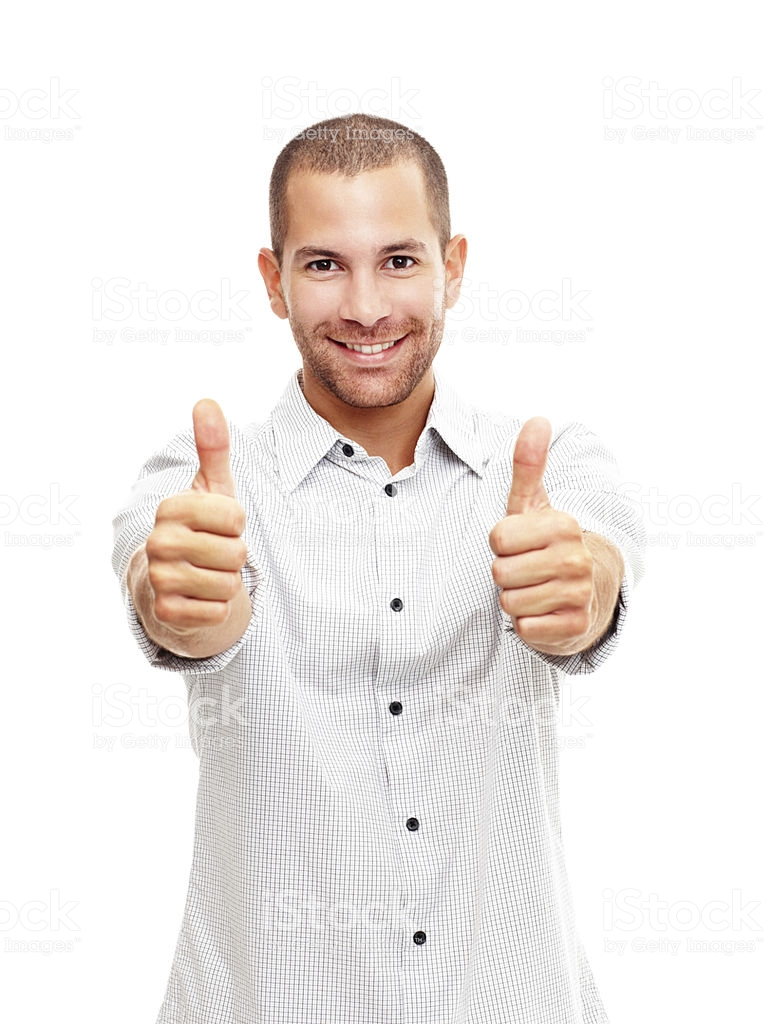thumbsup: (485, 415, 598, 653), (144, 396, 248, 633)
